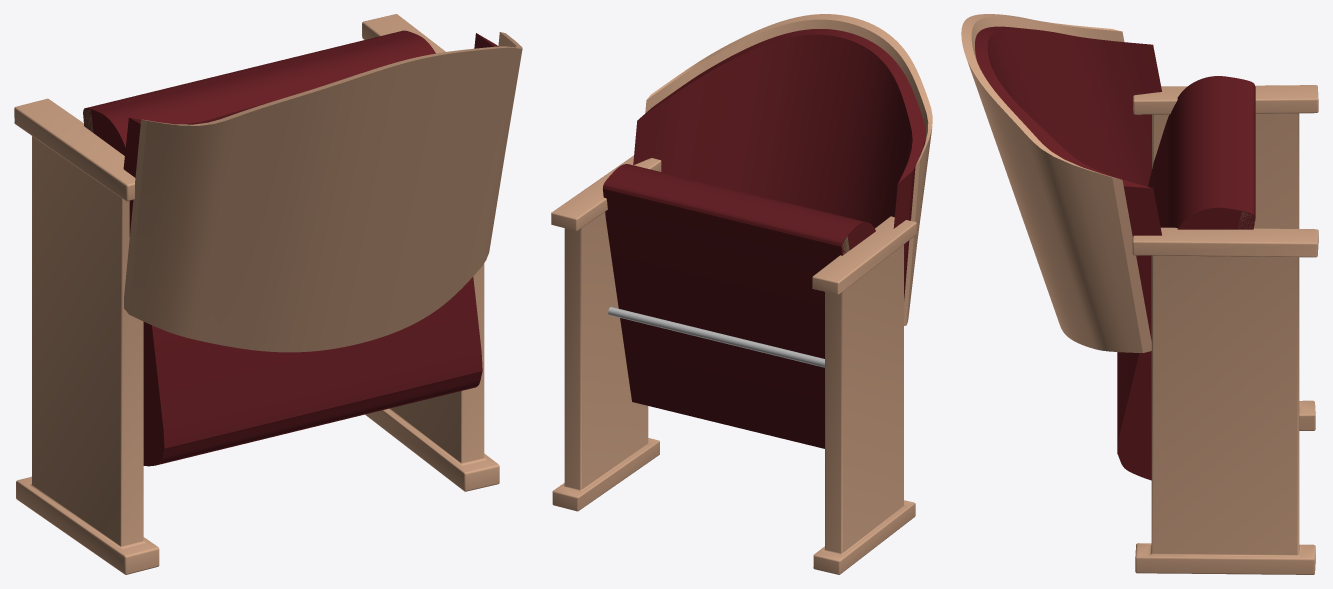
The model's file is theatre_chair__0e346addc570.glb.
3 renders of one model, left to right at view 1: azimuth 30°, elevation 25°; view 2: azimuth 150°, elevation 25°; view 3: azimuth 270°, elevation 25°, orthographic. The views are drawn at different scales.
Parts seen in each view (by area): view 1: back_surface, upright.001, cushion, upright, back_surface.001; view 2: cushion, back_surface.001, upright.001, upright, back_surface, bar; view 3: upright, back_surface, back_surface.001, cushion, upright.001.
Part boxes in pixels (bbox=[...]): back_surface: bbox=[124, 32, 522, 352]; upright.001: bbox=[14, 98, 159, 574]; cushion: bbox=[83, 30, 482, 466]; upright: bbox=[362, 14, 499, 491]; back_surface.001: bbox=[123, 33, 498, 236]; cushion: bbox=[602, 164, 875, 448]; back_surface.001: bbox=[633, 29, 925, 298]; upright.001: bbox=[812, 216, 916, 574]; upright: bbox=[551, 155, 661, 511]; back_surface: bbox=[645, 14, 932, 325]; bar: bbox=[608, 307, 824, 367]; upright: bbox=[1132, 227, 1318, 574]; back_surface: bbox=[961, 14, 1151, 352]; back_surface.001: bbox=[975, 26, 1161, 340]; cushion: bbox=[1117, 76, 1255, 480]; upright.001: bbox=[1133, 85, 1318, 430].
Size of the model in its own units: 0.6631 by 0.9 by 0.6301.
